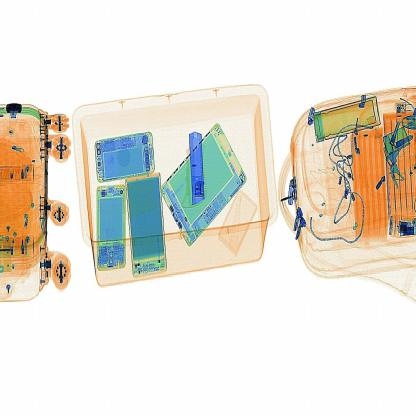pliers: (183, 119, 210, 209)
